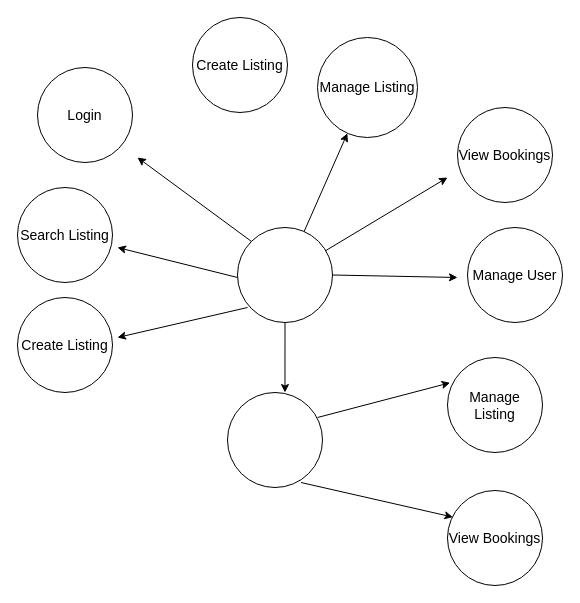
Image size: 580x603. Some labels were removed from this diagram. The centre of each missing label's shape, as x and y in pixels:
"Host" belongs at (x=274, y=440).
"System" belongs at (x=284, y=274).
